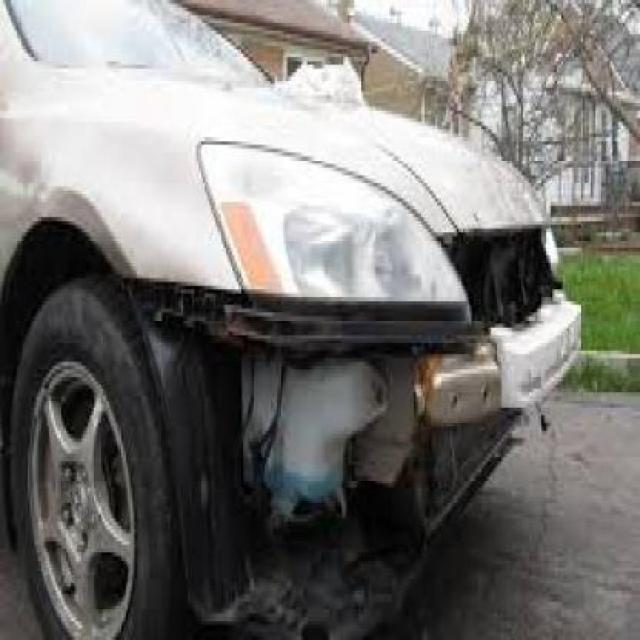damaged-front-bumper: (136, 280, 579, 616)
